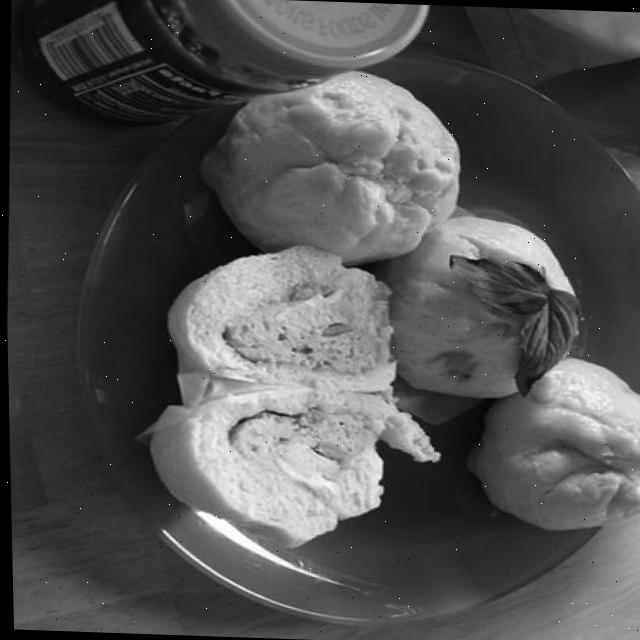带馅早点: (76, 35, 640, 640)
